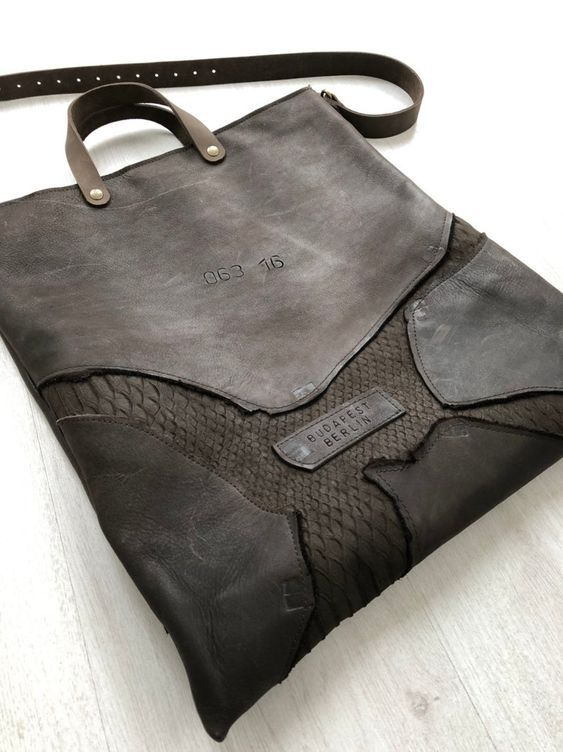cuero: (1, 49, 563, 743)
